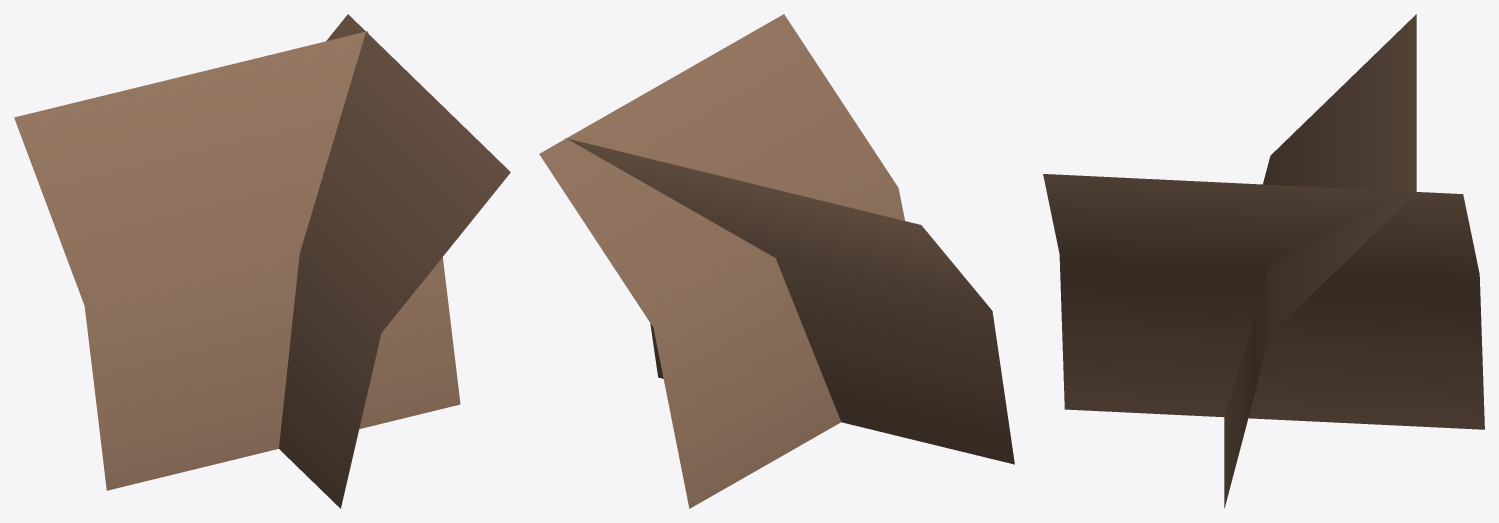
Rendered from GrassPlanes_b_TwoS_01.fbx.
The picture shows the model from 3 angles, left to right: view 1: azimuth 30°, elevation 25°; view 2: azimuth 150°, elevation 25°; view 3: azimuth 270°, elevation 25°; orthographic projection. The views are drawn at different scales.
Parts seen in each view (by area): view 1: GrassPlanes_b_TwoS_01; view 2: GrassPlanes_b_TwoS_01; view 3: GrassPlanes_b_TwoS_01.
Part boxes in pixels (left/top/right/bottom): GrassPlanes_b_TwoS_01: left=14, top=14, right=510, bottom=508; GrassPlanes_b_TwoS_01: left=539, top=14, right=1014, bottom=508; GrassPlanes_b_TwoS_01: left=1043, top=14, right=1484, bottom=508.
Size of the model in its own units: 60.47 by 49.51 by 62.69.
